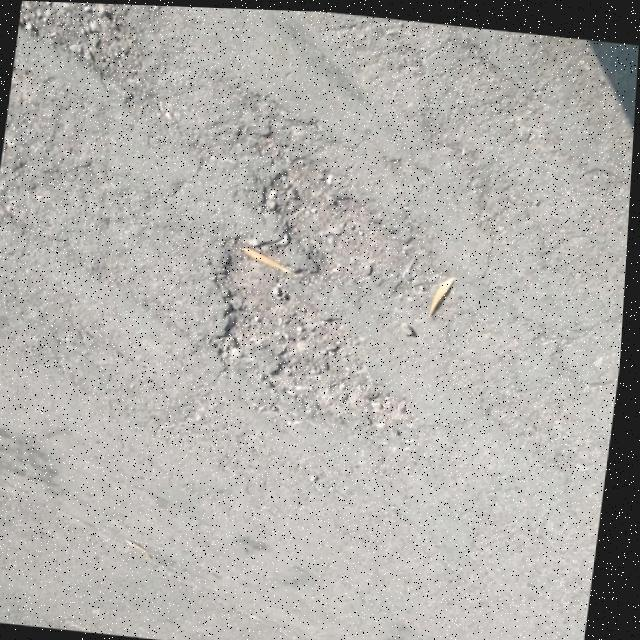pothole: (168, 107, 500, 453)
